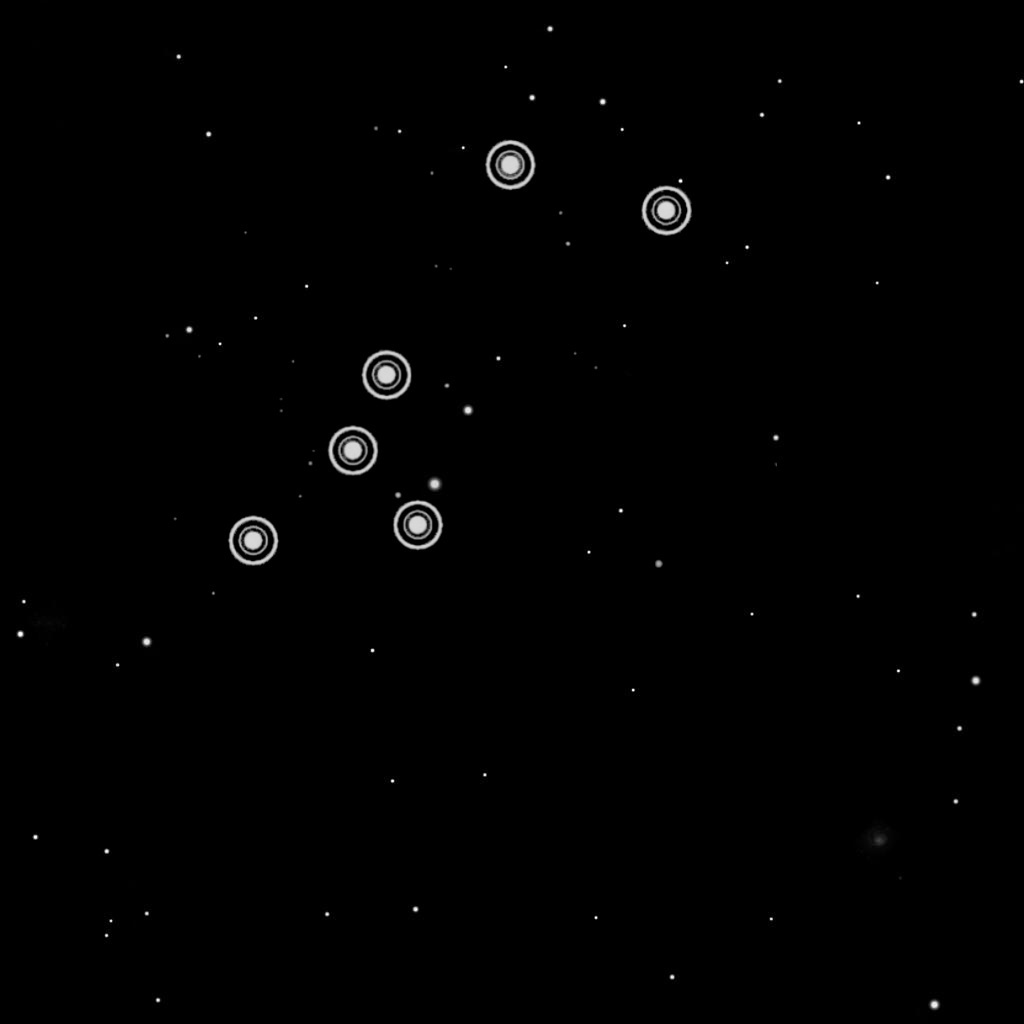canis_major: (213, 133, 701, 578)
